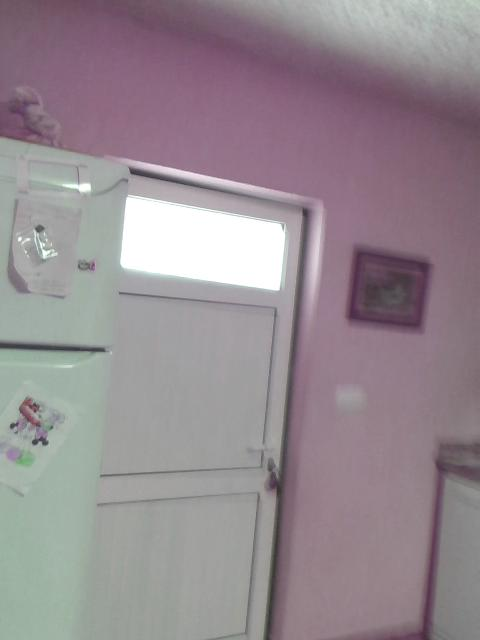closed_door: (79, 154, 310, 638)
